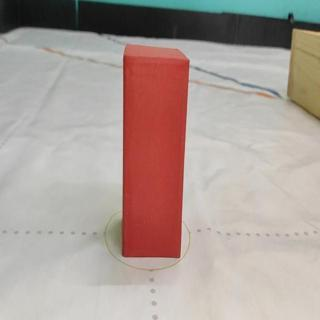redbox: (121, 42, 189, 259)
